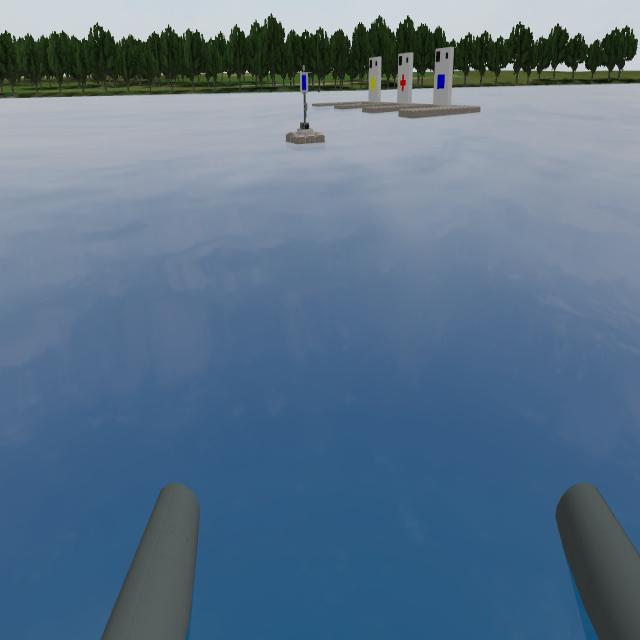blue_pole: (294, 63, 326, 107)
